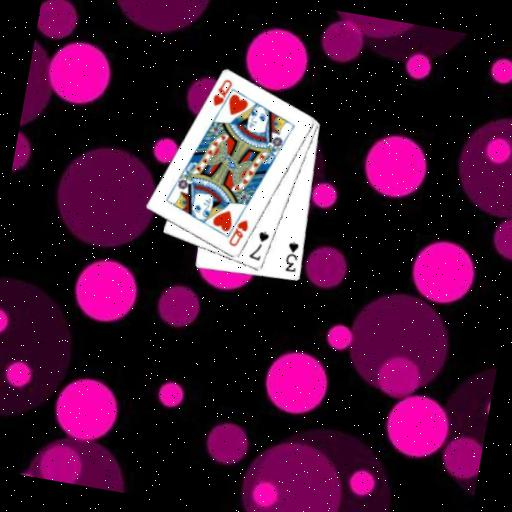3S: (281, 238, 302, 274)
7S: (245, 226, 271, 263)
QH: (207, 74, 237, 116), (225, 214, 251, 250)
